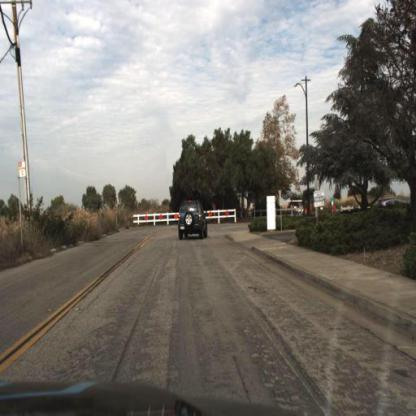car: (177, 202, 210, 241)
